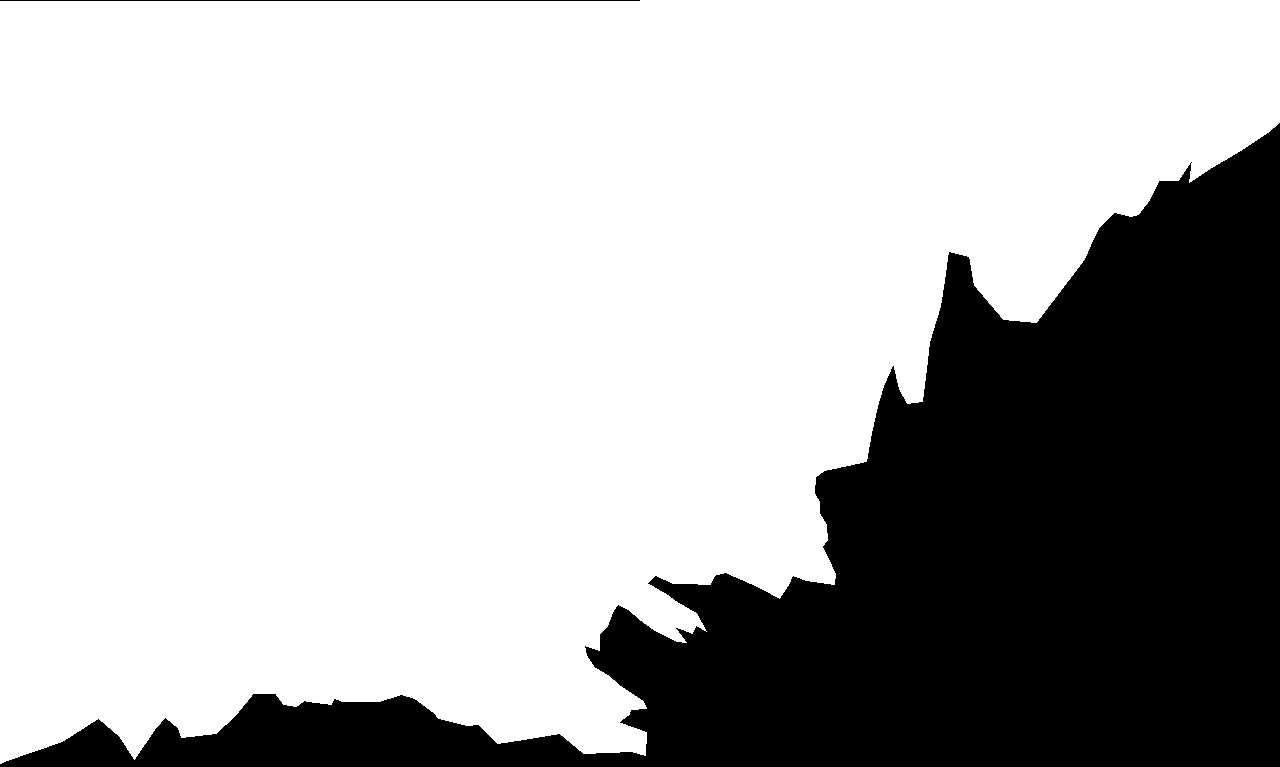Fire: (11, 23, 835, 736)
